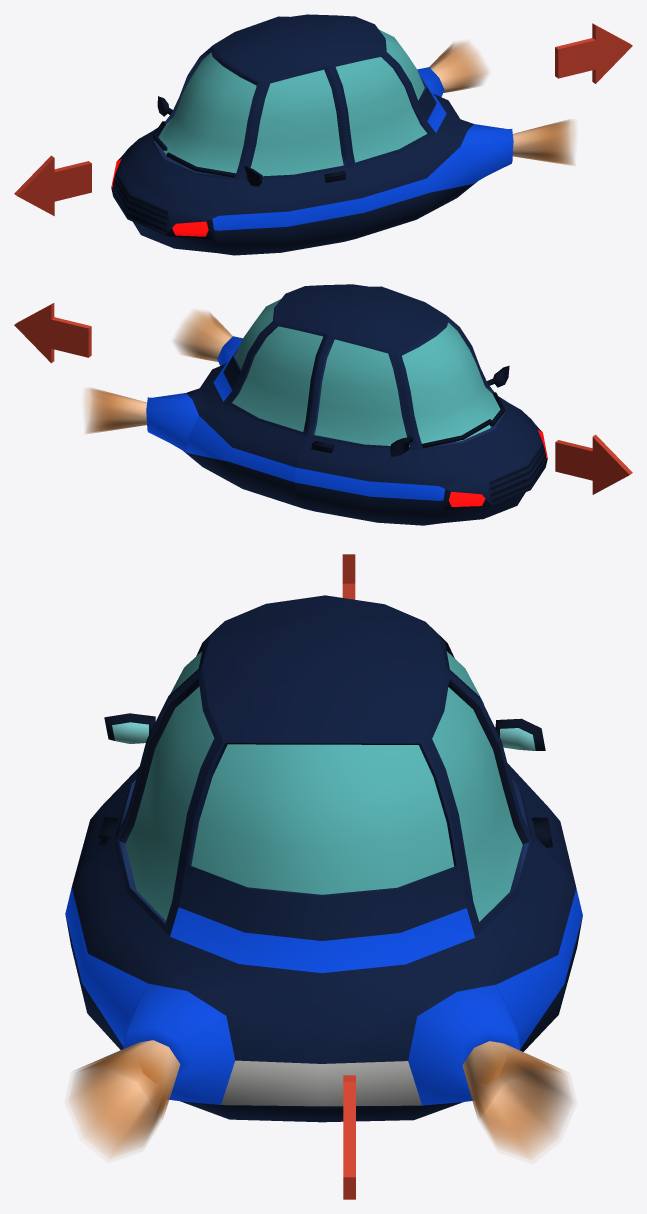
File: Horizontal_Flying_Car_Blue.glb
3 views of the same model, one above another, from view 1: azimuth 30°, elevation 25°; view 2: azimuth 150°, elevation 25°; view 3: azimuth 270°, elevation 25° (orthographic). The views are drawn at different scales.
Parts seen in each view (by area): view 1: flyingCar_Blue, arrowUP, arrowDown; view 2: flyingCar_Blue, arrowUP, arrowDown; view 3: flyingCar_Blue, arrowUP.
Boxes of the visible parts, x1,y1,x2,y2 form: flyingCar_Blue: (111,14,574,255); arrowUP: (555,23,632,83); arrowDown: (14,155,91,216); flyingCar_Blue: (85,284,547,525); arrowUP: (14,303,91,363); arrowDown: (555,434,632,494); flyingCar_Blue: (65,595,582,1159); arrowUP: (343,1075,355,1199).
Size of the model in its own units: 7.62 by 2.22 by 2.78.
Materials: 3 (3 with a texture image).
